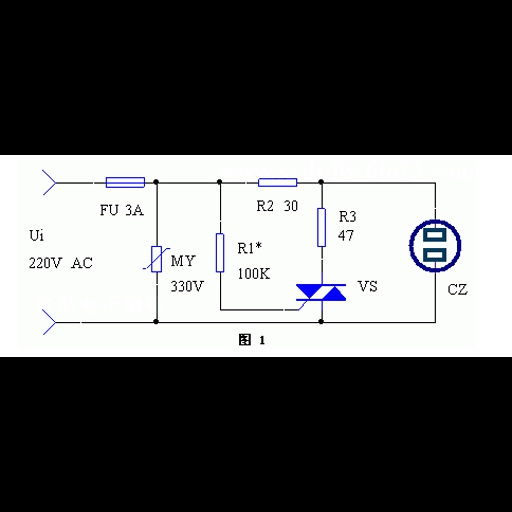firstresistance: (212, 230, 228, 276), (251, 174, 299, 189), (314, 204, 329, 251)
fuse: (102, 174, 147, 193)
